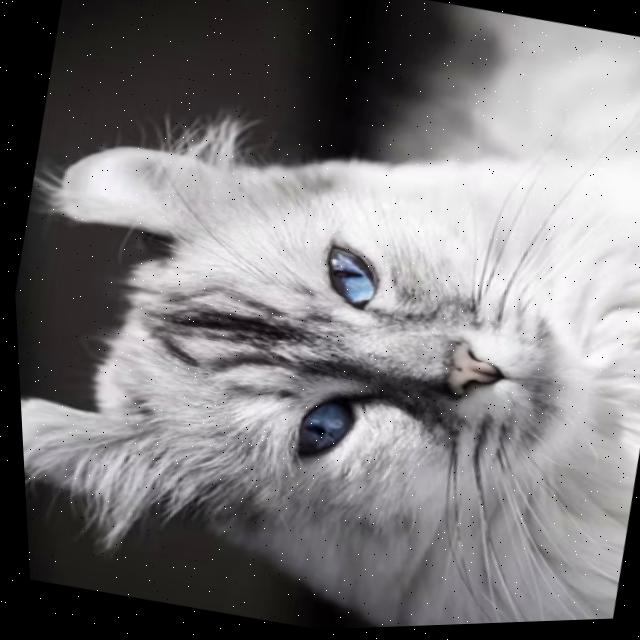American Curl: (2, 34, 640, 640)
